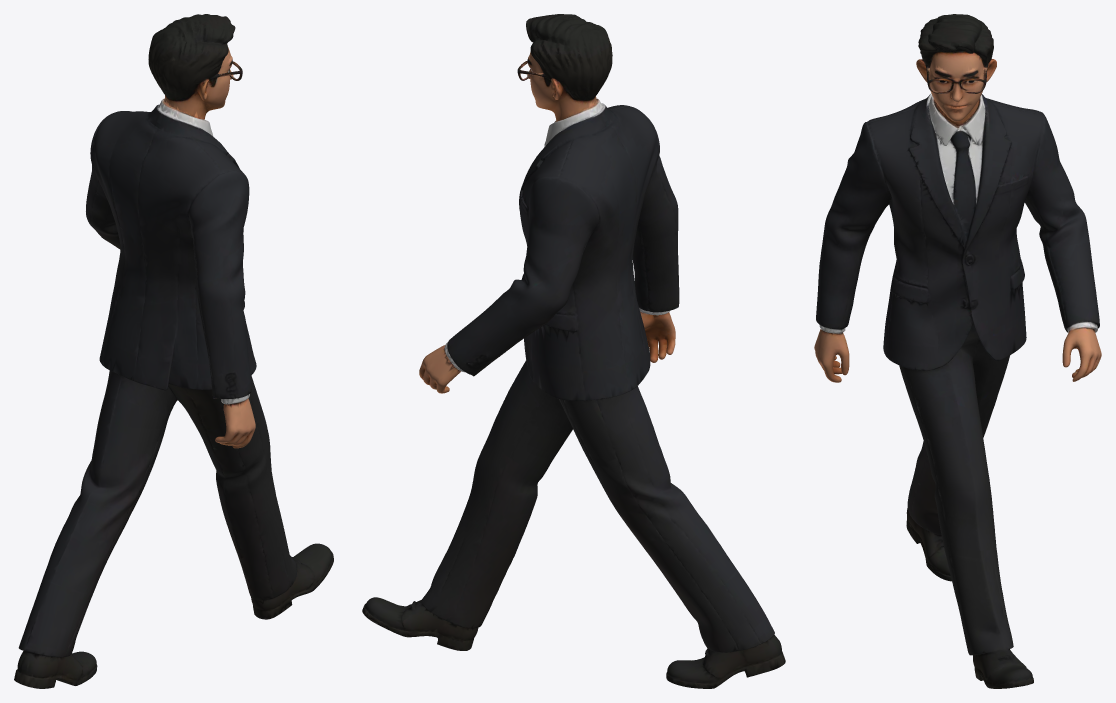
The picture shows the model from 3 angles, left to right: view 1: azimuth 30°, elevation 25°; view 2: azimuth 150°, elevation 25°; view 3: azimuth 270°, elevation 25°; orthographic projection. The views are drawn at different scales.
Visible parts, largest first — view 1: tripo_node_81bb7360-52c9-4c20-a498-5b122b07fd65; view 2: tripo_node_81bb7360-52c9-4c20-a498-5b122b07fd65; view 3: tripo_node_81bb7360-52c9-4c20-a498-5b122b07fd65.
Part boxes in pixels (x1,y1,x2,y2): tripo_node_81bb7360-52c9-4c20-a498-5b122b07fd65: [14, 14, 333, 688]; tripo_node_81bb7360-52c9-4c20-a498-5b122b07fd65: [362, 14, 785, 688]; tripo_node_81bb7360-52c9-4c20-a498-5b122b07fd65: [814, 14, 1101, 688].
Size of the model in its own units: 0.6065 by 0.9991 by 0.4215.
Materials: 1 (1 with a texture image).
